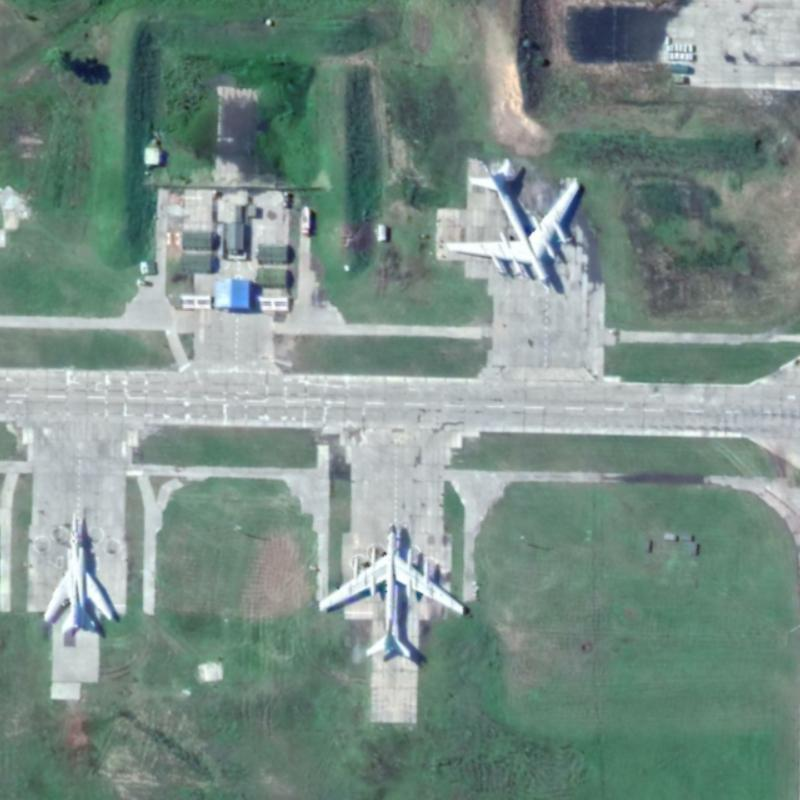A12: (40, 510, 114, 636)
A17: (316, 521, 466, 659), (441, 154, 581, 291)
